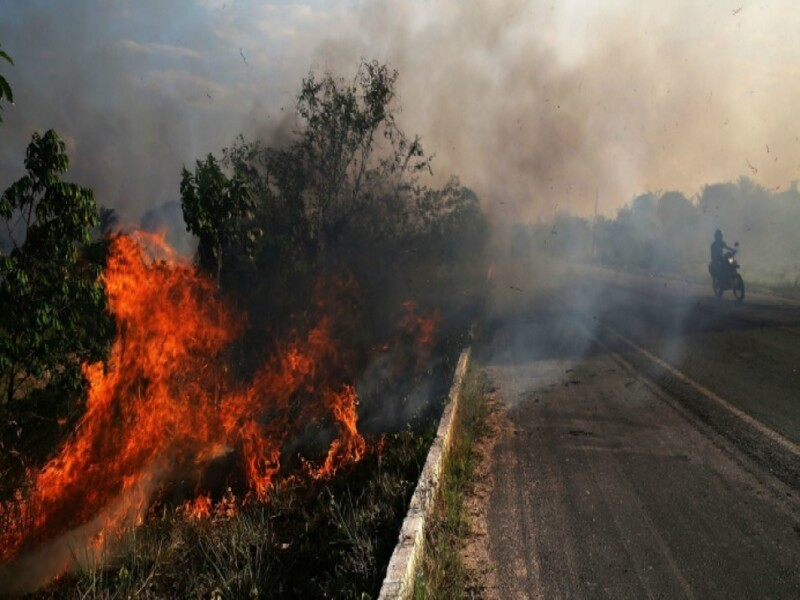fire: (79, 259, 259, 502)
